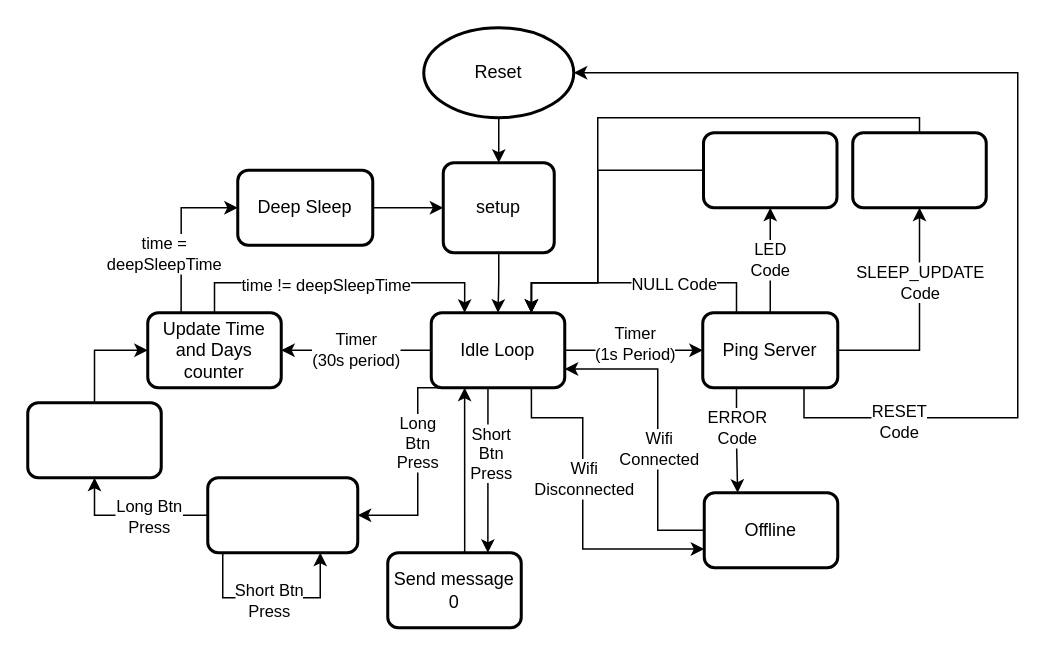
Some shapes in this 1056 by 654 pixel diagram are drawn without their labels. Each missing label, with the box of its shape:
LED Animation: (701, 130, 838, 208)
Select Message i++: (206, 476, 358, 554)
Send message i: (26, 400, 162, 478)
Update sleep start and duration: (850, 130, 987, 208)
